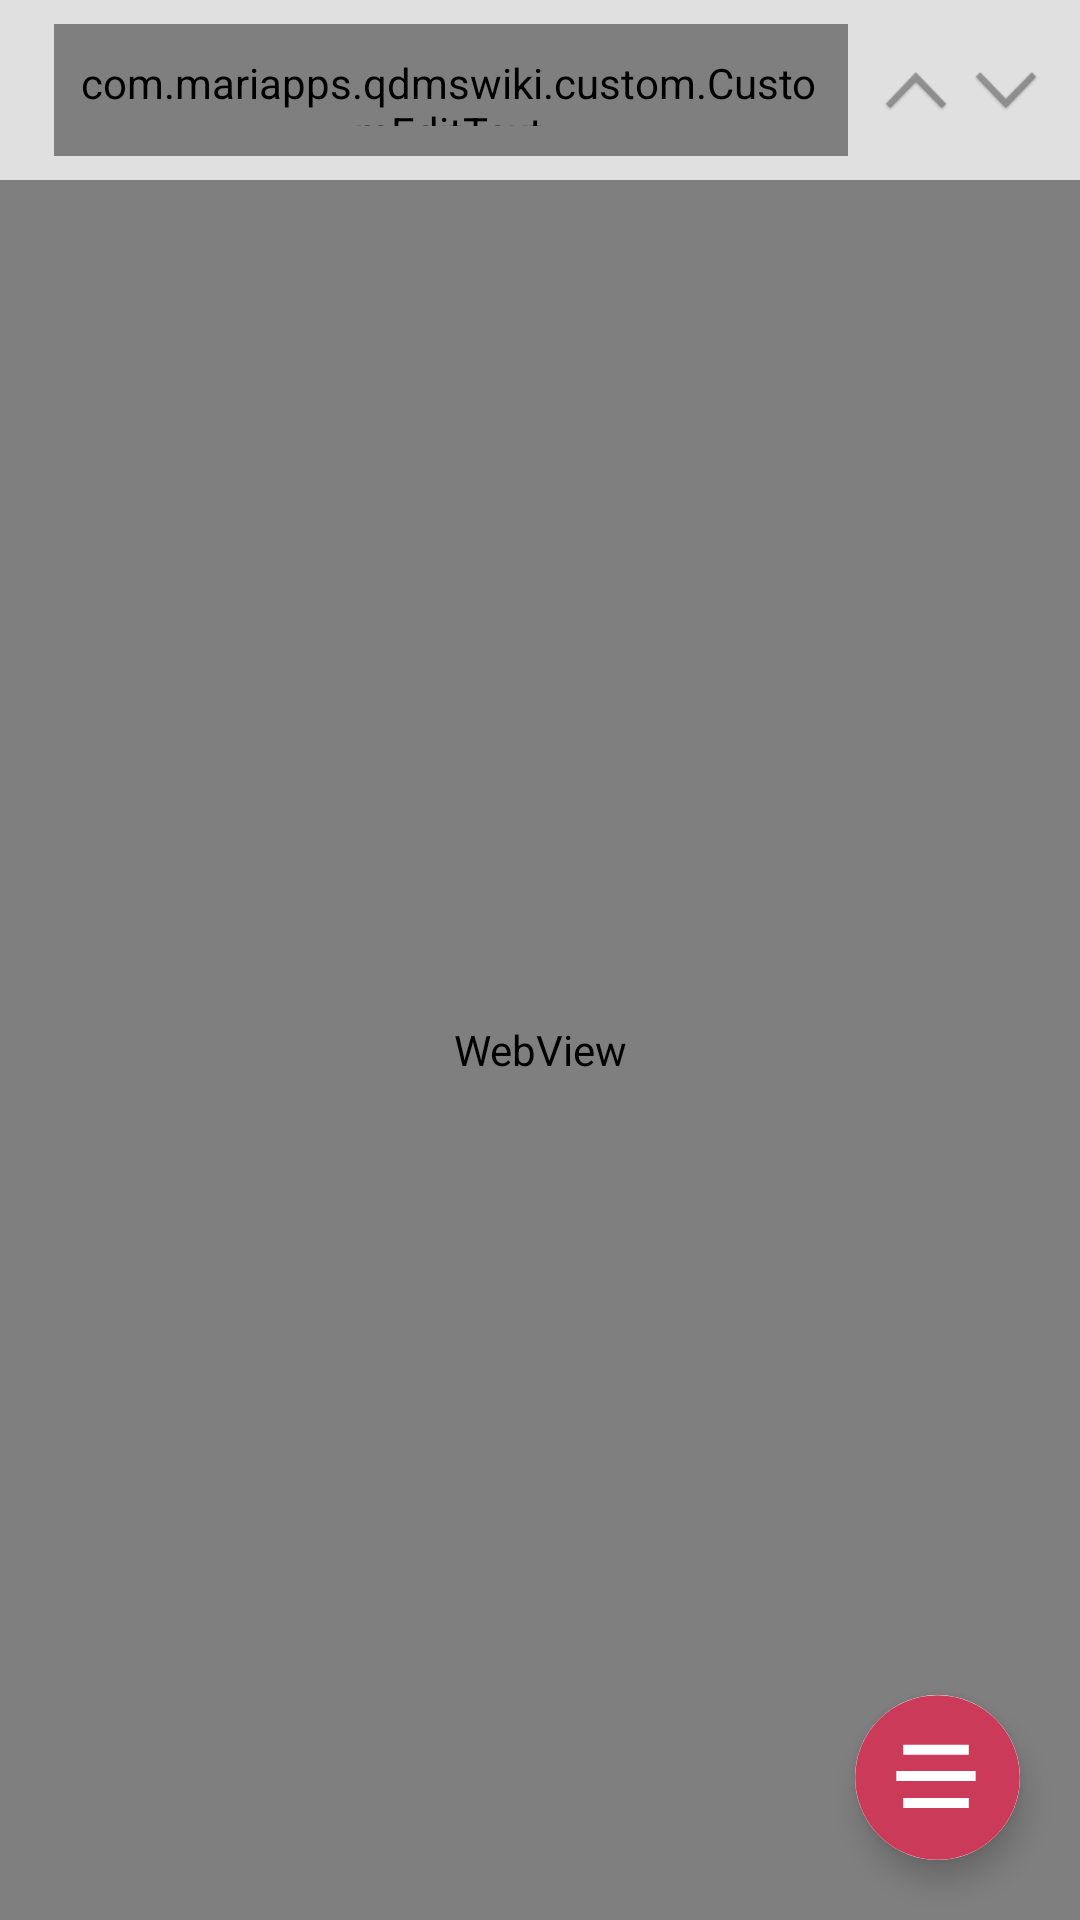

Where to tap for icons on this 1080x1920 app screen, as (x=x, y=y):
down arrow: (x=1006, y=90)
more menu: (x=937, y=1777)
up arrow: (x=916, y=90)
